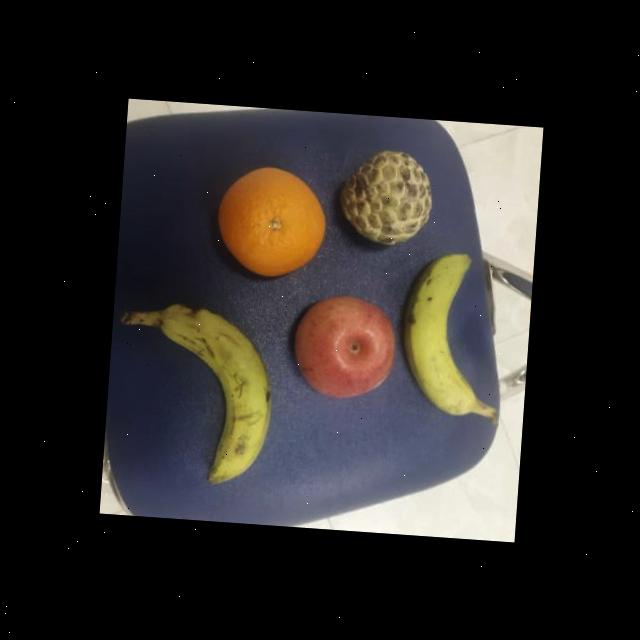Sakya fruit: (335, 146, 436, 252)
apple: (287, 291, 398, 404)
banana: (150, 300, 280, 488), (396, 246, 491, 418)
orange: (210, 162, 332, 282)
